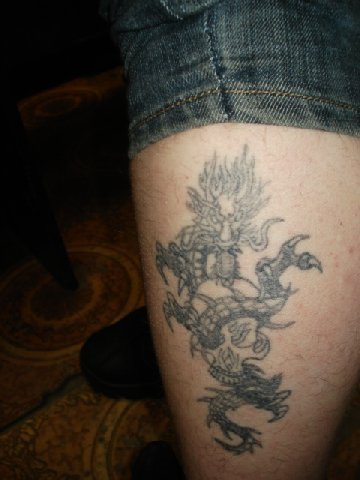tatu6_drakon: (152, 147, 332, 457)
